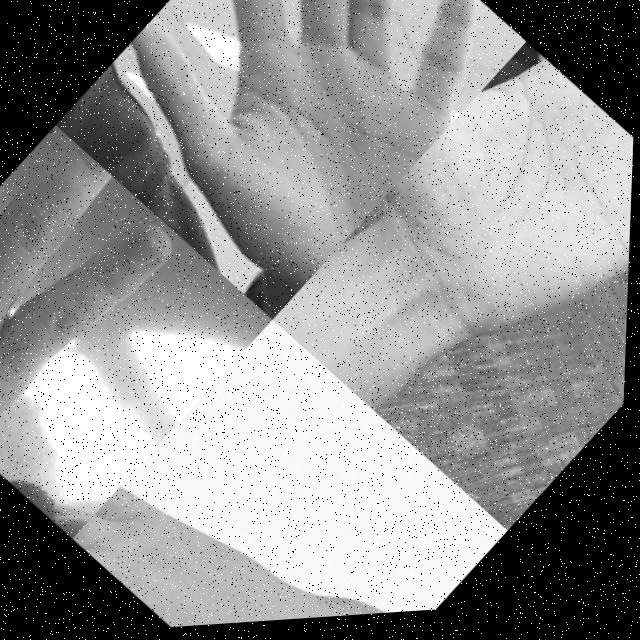hand: (79, 0, 528, 303), (332, 43, 638, 445), (73, 408, 425, 635), (0, 117, 216, 485)
